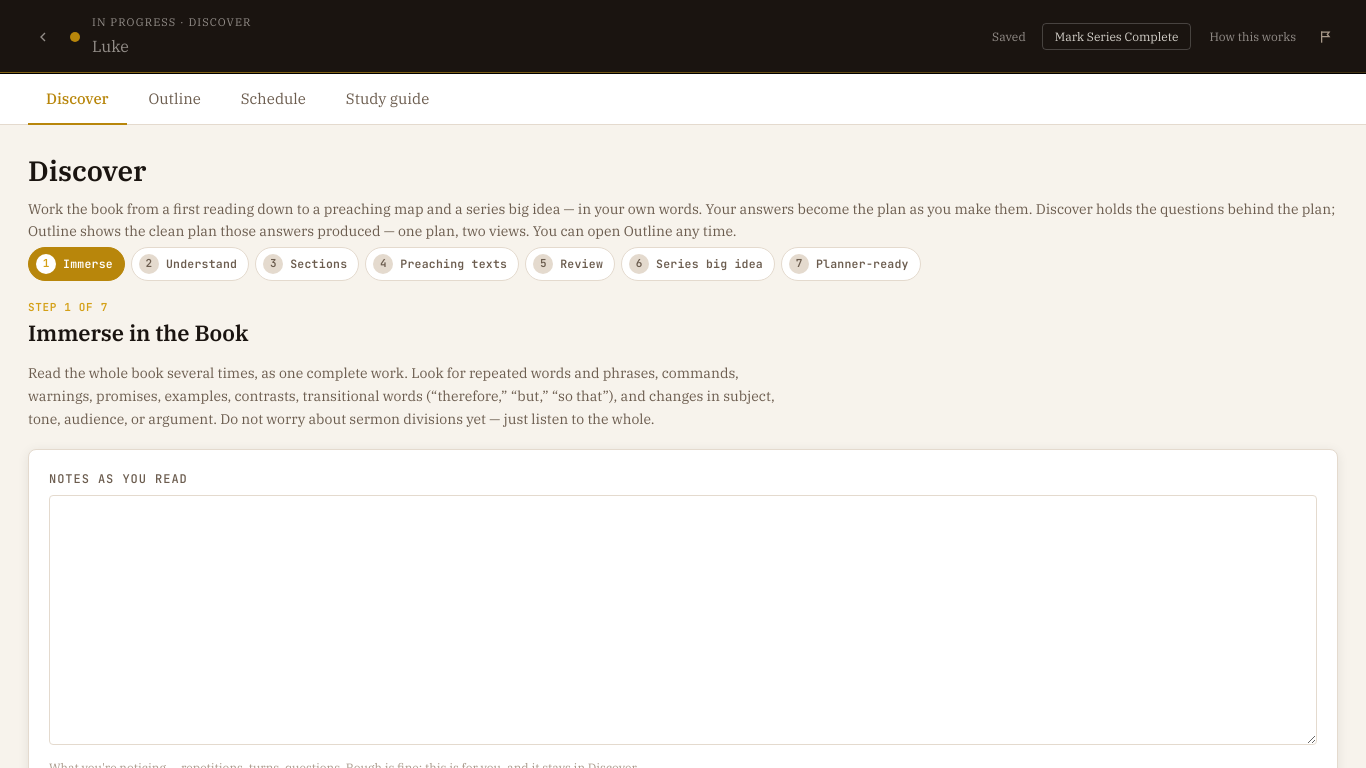
Test case: Series Discovery — one series, two views › a new book series opens on Discover; a major section created there is the same section Outline shows (#6, #16)
Expected: the text "Saved" is shown, [992, 29, 1026, 44]
Expected: the heading "Immerse in the Book" is shown, [28, 318, 248, 347]
# Go to Step 3 and create a major section (a REAL section via the spine).
Click the tab with aria-label "Step 3: Map the Major Sections": [307, 264] box [255, 247, 359, 281]
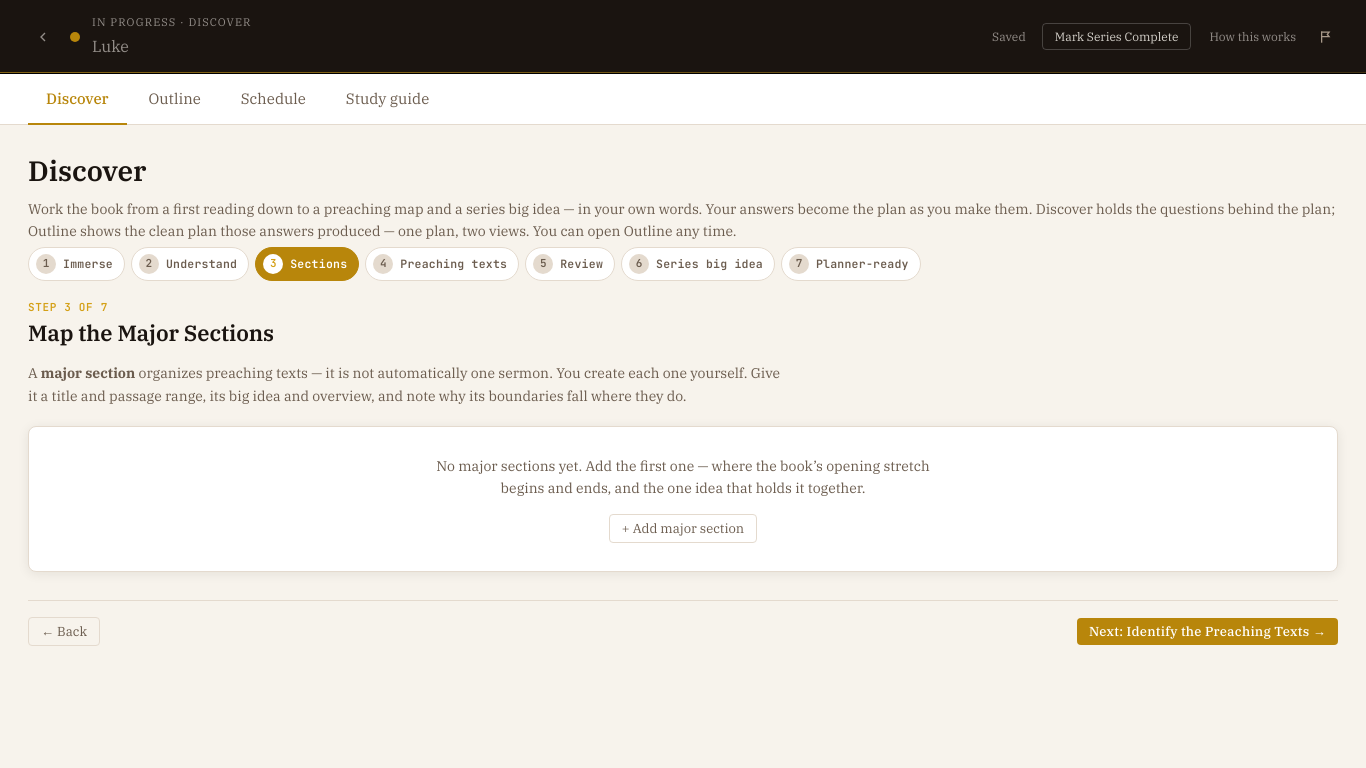
Click the button "+ Add major section": [683, 528] box [609, 514, 757, 543]
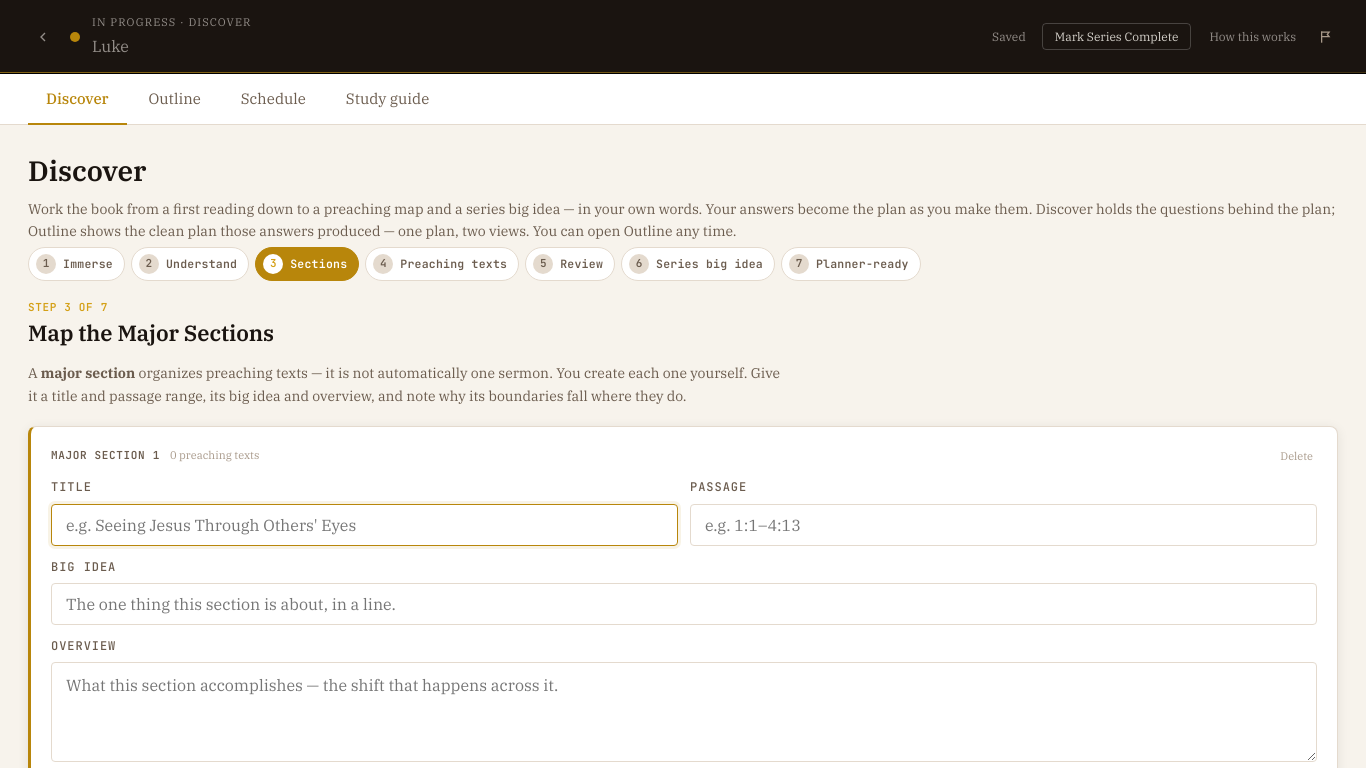
# Name it — this edits the section's canonical `title` (shared with Outline).
In the field with placeholder "e.g. Seeing Jesus Through Others' Eyes": [364, 525] box [51, 504, 678, 546], type "Seeing Him Through Others' Eyes"
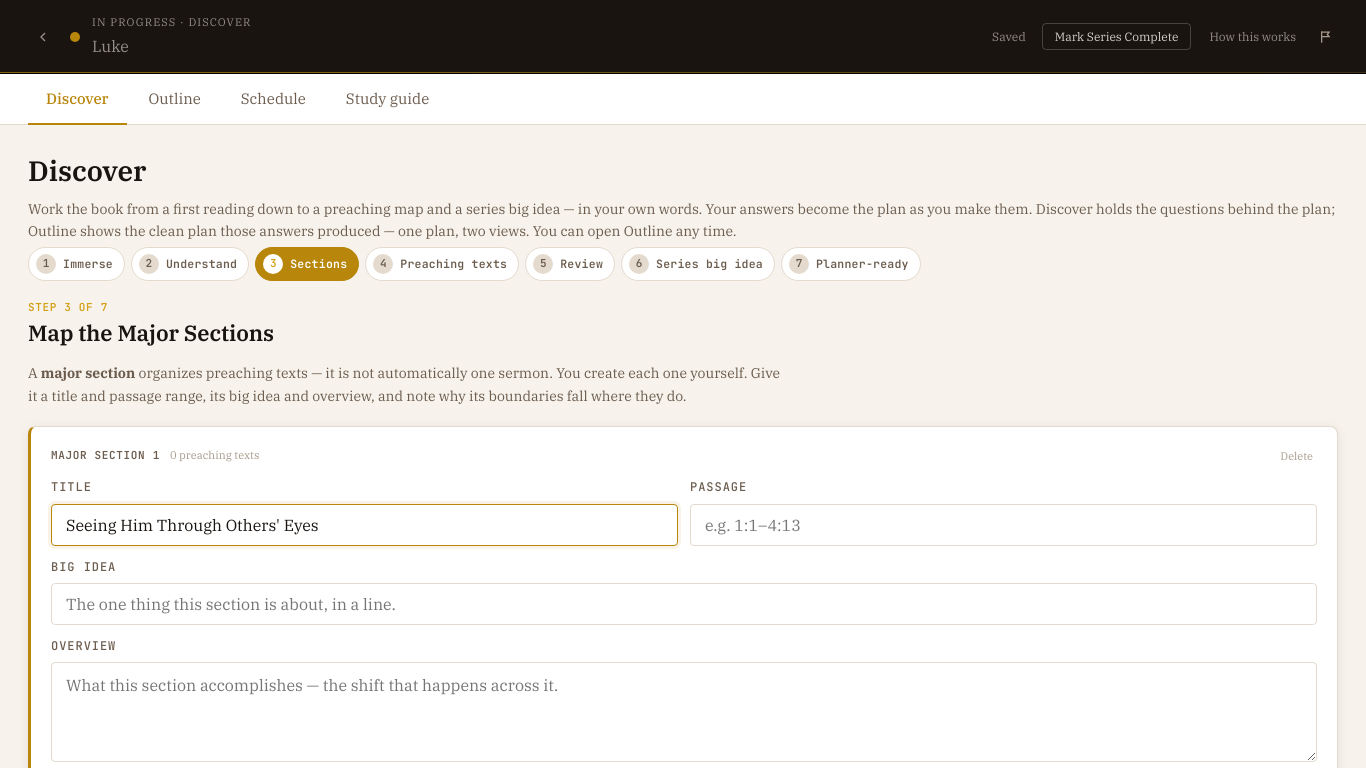
Click the button "Outline": [175, 99] box [149, 89, 201, 108]
(page scrolled)
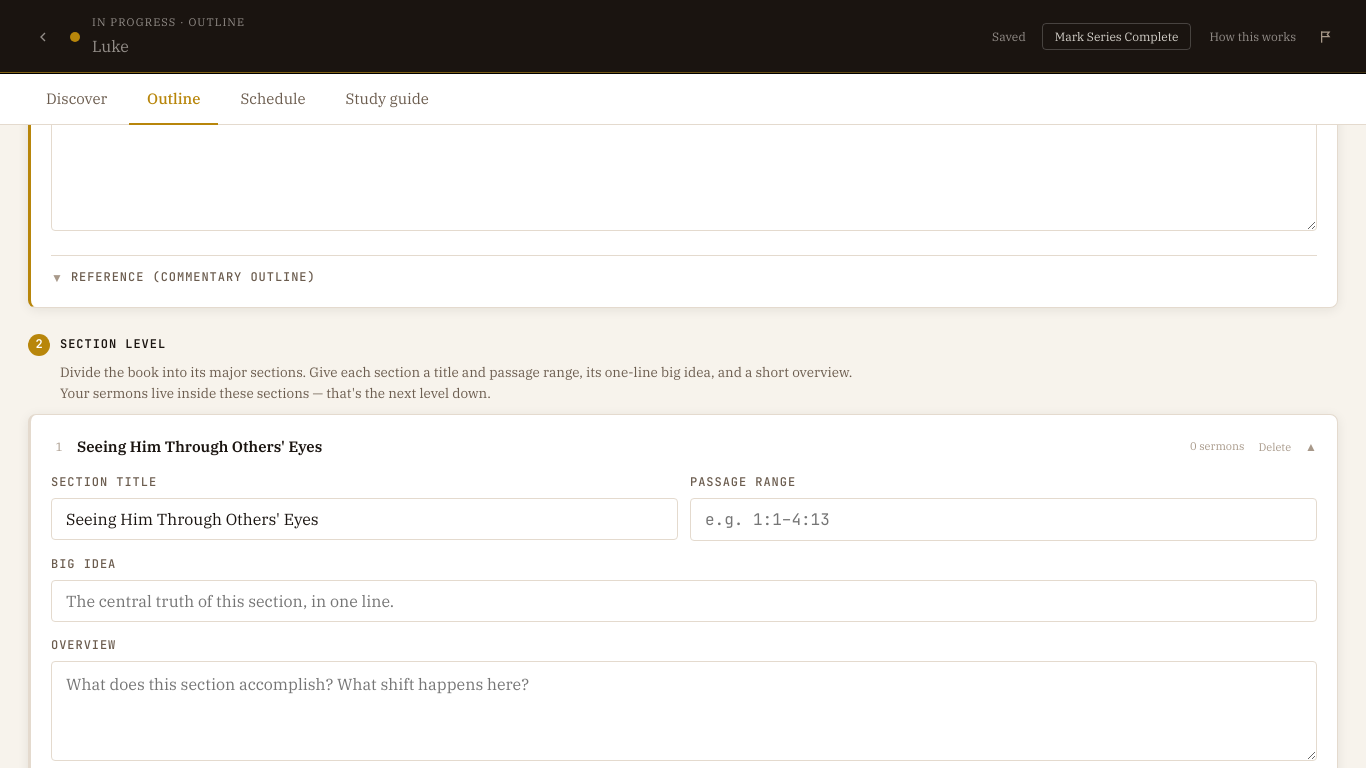
Expected: the text "Seeing Him Through Others' Eyes" is shown, [77, 437, 322, 456]
